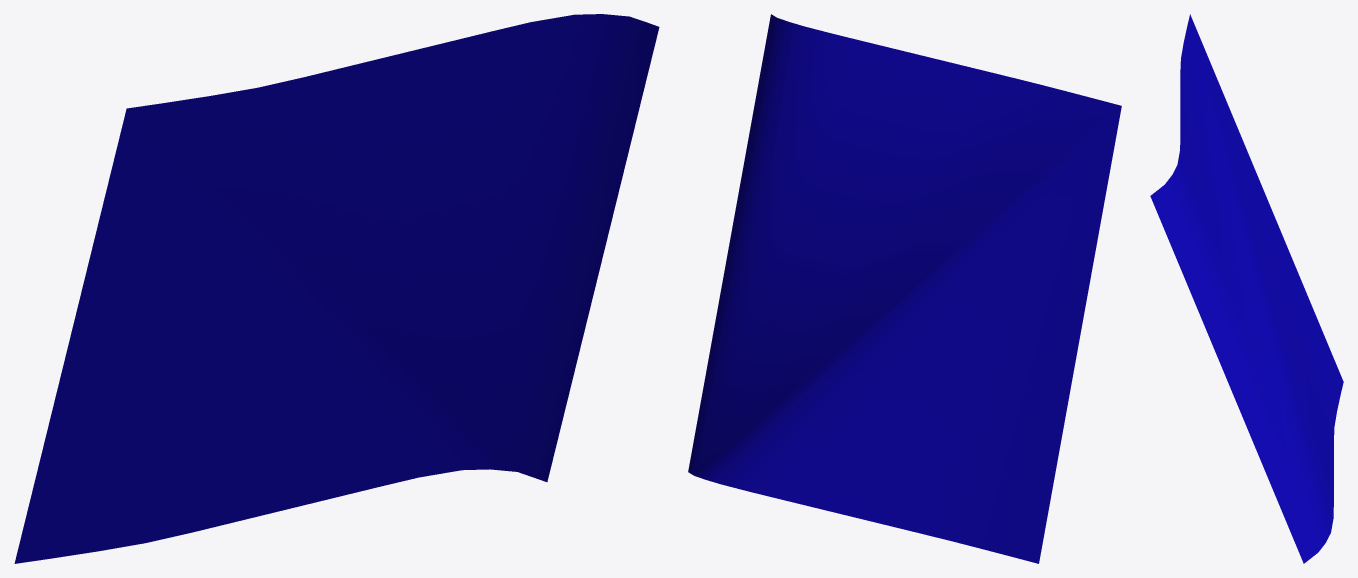
Rendered from 1ply.fbx.
3 views of the same model, side by side, from view 1: azimuth 30°, elevation 25°; view 2: azimuth 150°, elevation 25°; view 3: azimuth 270°, elevation 25° (orthographic). The views are drawn at different scales.
Parts seen in each view (by area): view 1: book_left1; view 2: book_left1; view 3: book_left1.
Part boxes in pixels (box(x1,y1,x2,y2)): book_left1: box(14, 14, 659, 563); book_left1: box(688, 14, 1121, 563); book_left1: box(1150, 14, 1343, 563).
Size of the model in its own units: 876 by 426 by 927.
